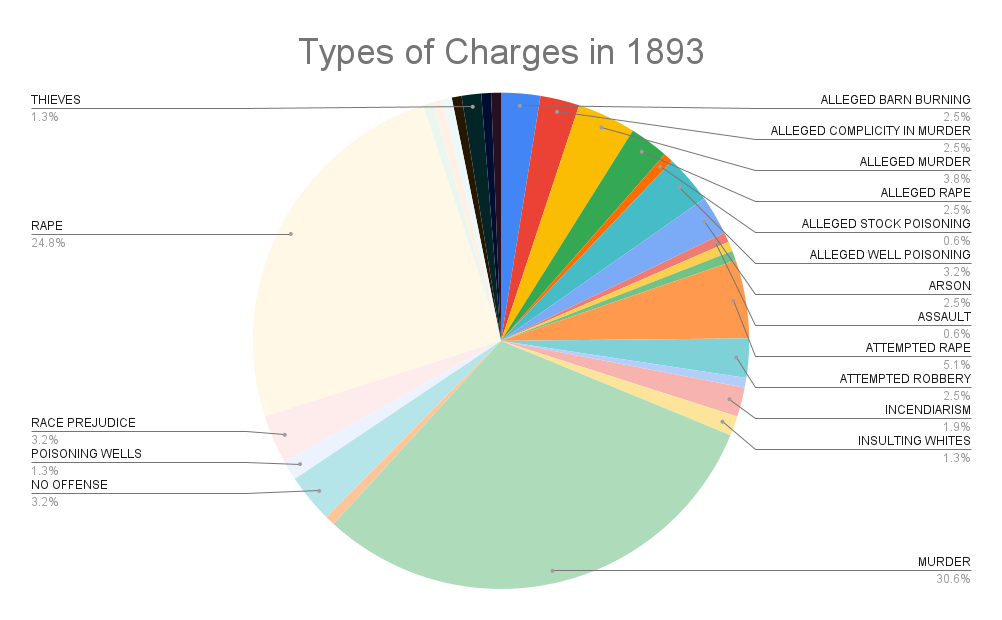

The dashboard page shown, as its layout file describes it:
{"tool":"tableau","page":{"name":"Dashboard 1","canvas":[800,1800],"ordinal":0},"visuals":[{"type":"worksheet","title":"Sheet 1","mark":"Shape","box":[8,8,784,1784]},{"type":"text","box":[33,33,744,59]}]}

Visuals, with their boxes on the page's 800x1800 design canvas (x1, y1, x2, y2). These are canvas units, not pixel positions in the 1002x620 screenshot, which may show the page scaled, cropped or inside an application window:
"Sheet 1" worksheet (Shape marks): <box>8,8,792,1792</box>
text: <box>33,33,777,92</box>
